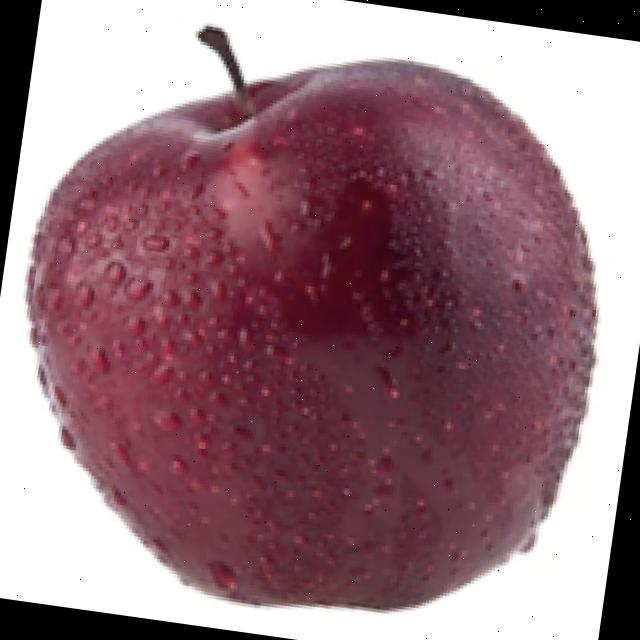apple: (19, 19, 602, 616)
